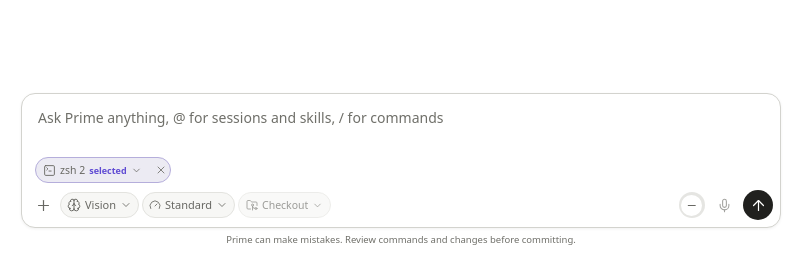
Test: Composer terminal context attachment › expands and clears highlighted terminal text through its live attachment
Expected: the button named "Send message" is enabled, [743,190,773,220]
Click the button with aria-label "Inspect selected text from zsh 2".
click(92, 170)  # box [36,159,149,181]
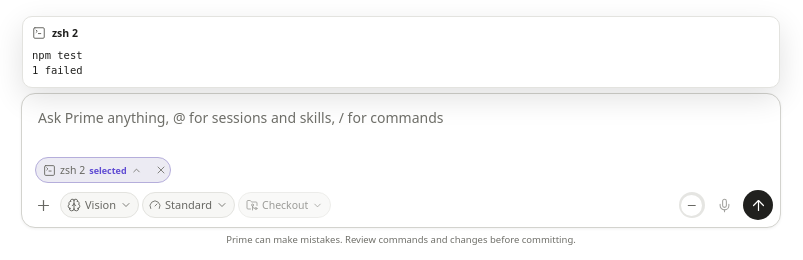
Result: the element with class "composer-terminal-selection" shows "npm test" at [32,49,83,76]
Click the button named "Clear terminal selection".
click(159, 170)  # box [149,160,169,180]
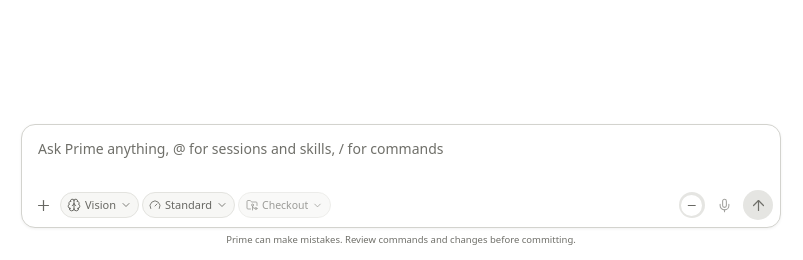
Result: the element with class "composer-terminal-selection" is gone
